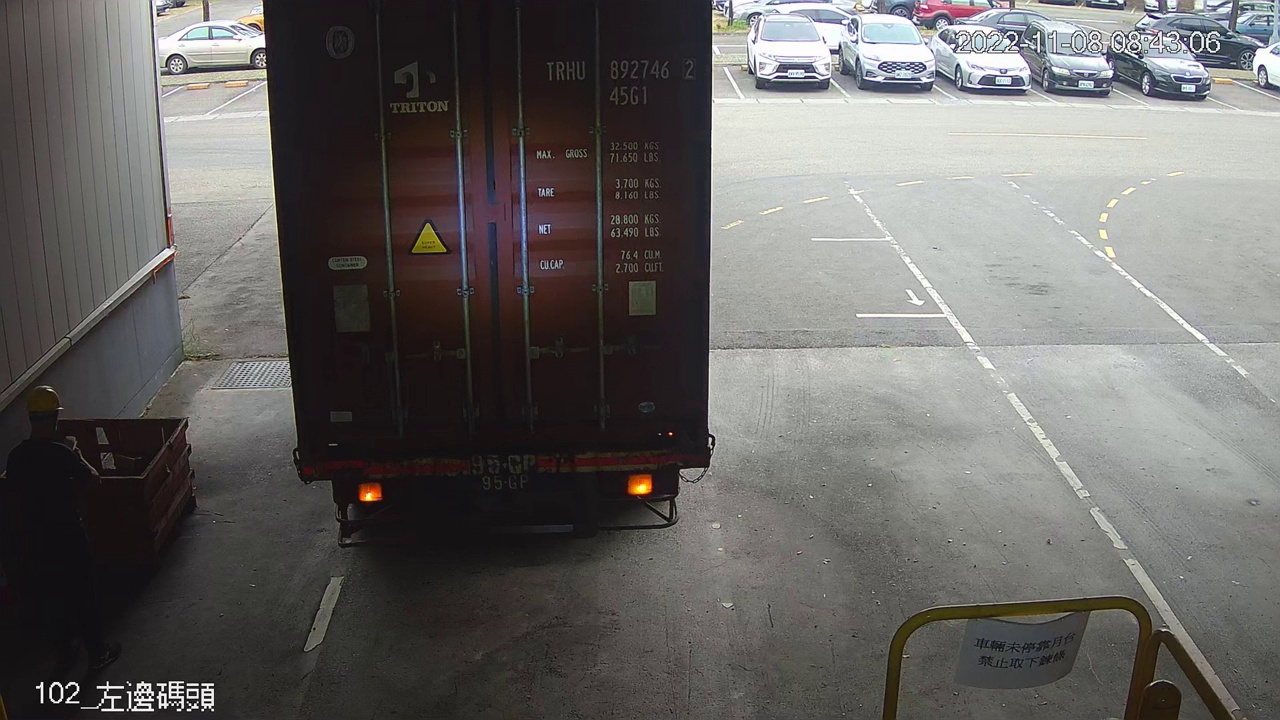container: (537, 47, 705, 114)
